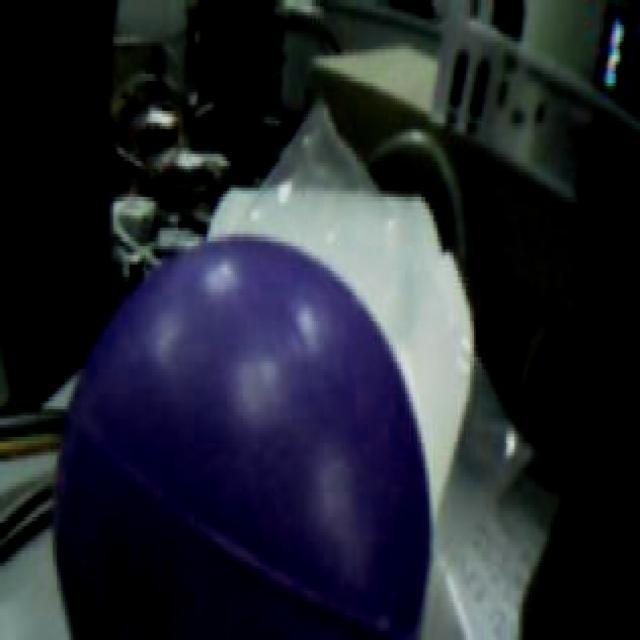BallPurple: (52, 239, 429, 640)
